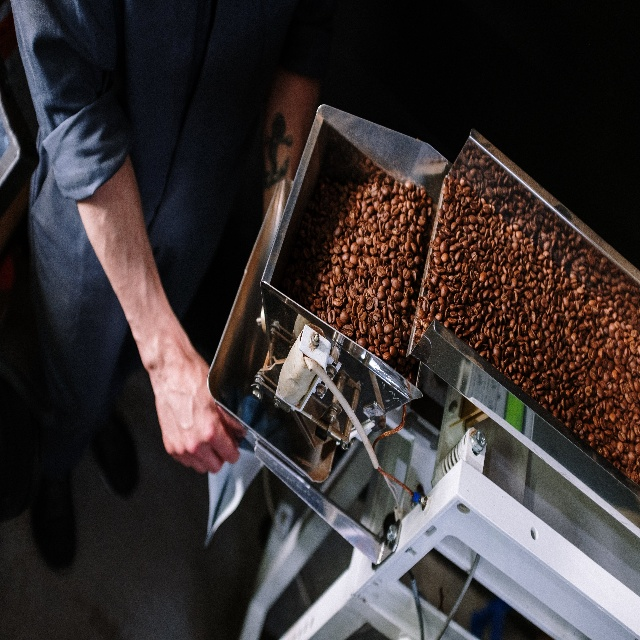Sin_guantes: (143, 342, 245, 476)
